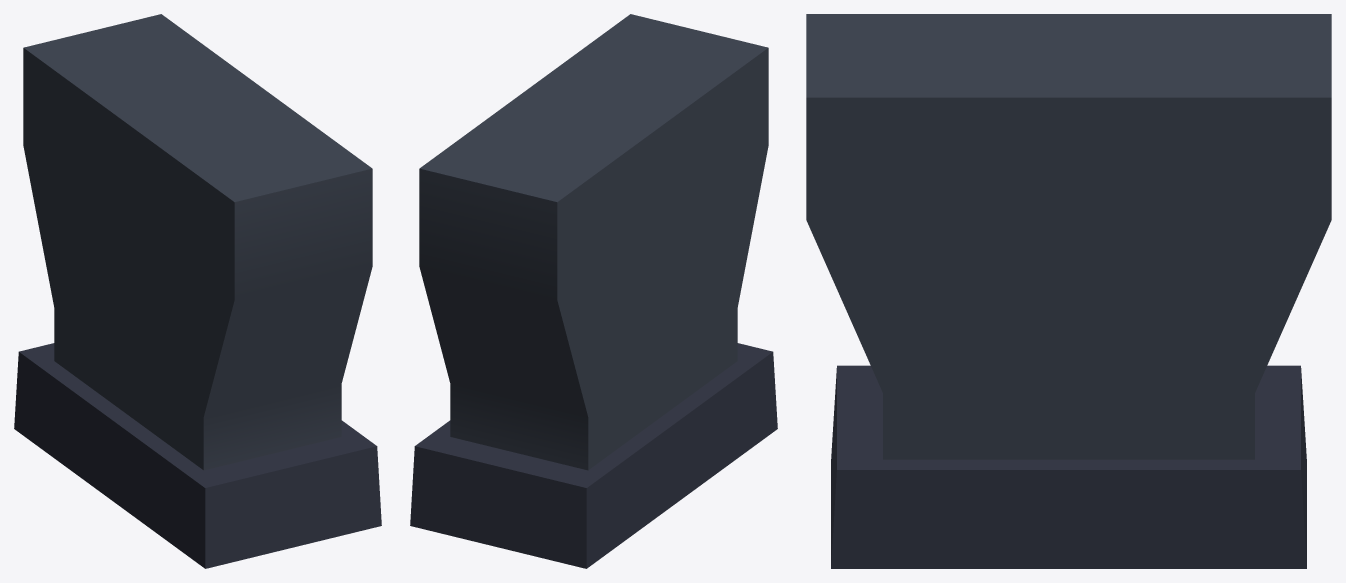
The model's file is Pipe_1_F_5.fbx.
3 renders of one model, left to right at view 1: azimuth 30°, elevation 25°; view 2: azimuth 150°, elevation 25°; view 3: azimuth 270°, elevation 25°, orthographic. The views are drawn at different scales.
Parts seen in each view (by area): view 1: Pipe_1_F_5; view 2: Pipe_1_F_5; view 3: Pipe_1_F_5.
Part boxes in pixels (<box>): Pipe_1_F_5: <box>14,14,381,568</box>; Pipe_1_F_5: <box>410,14,777,568</box>; Pipe_1_F_5: <box>806,14,1331,568</box>.
Bounding box in the file's own units: 17 × 34.01 × 35.24.
